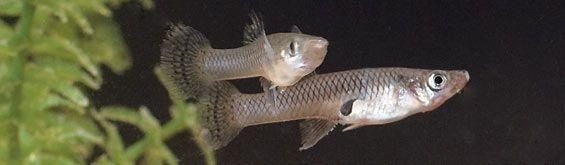Mosquito Fish: (195, 64, 473, 152), (163, 15, 327, 94)
